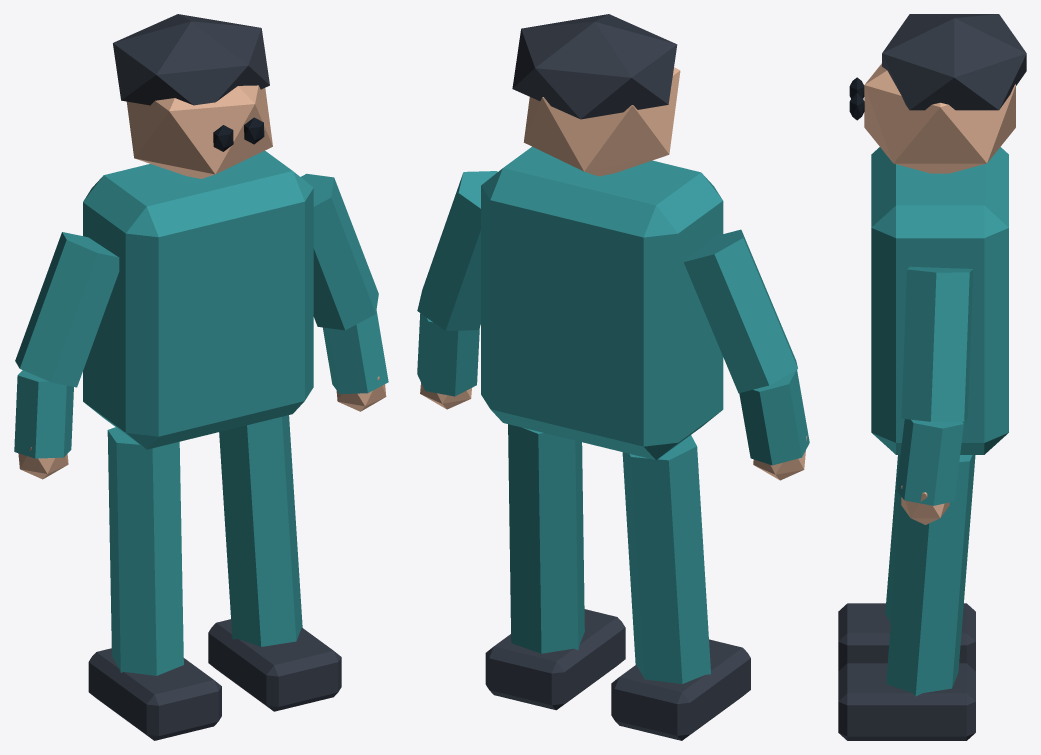
File: npcs_002_seed11.glb
3 views of the same model, side by side, from view 1: azimuth 30°, elevation 25°; view 2: azimuth 150°, elevation 25°; view 3: azimuth 270°, elevation 25° (orthographic). The views are drawn at different scales.
Parts seen in each view (by area): view 1: npcs_002_seed11; view 2: npcs_002_seed11; view 3: npcs_002_seed11.
Boxes of the visible parts, x1,y1,x2,y2 form: npcs_002_seed11: (14,14,388,740); npcs_002_seed11: (417,14,809,740); npcs_002_seed11: (838,14,1026,740).
Bounding box in the file's own units: 1.18 × 2.03 × 0.5125.
